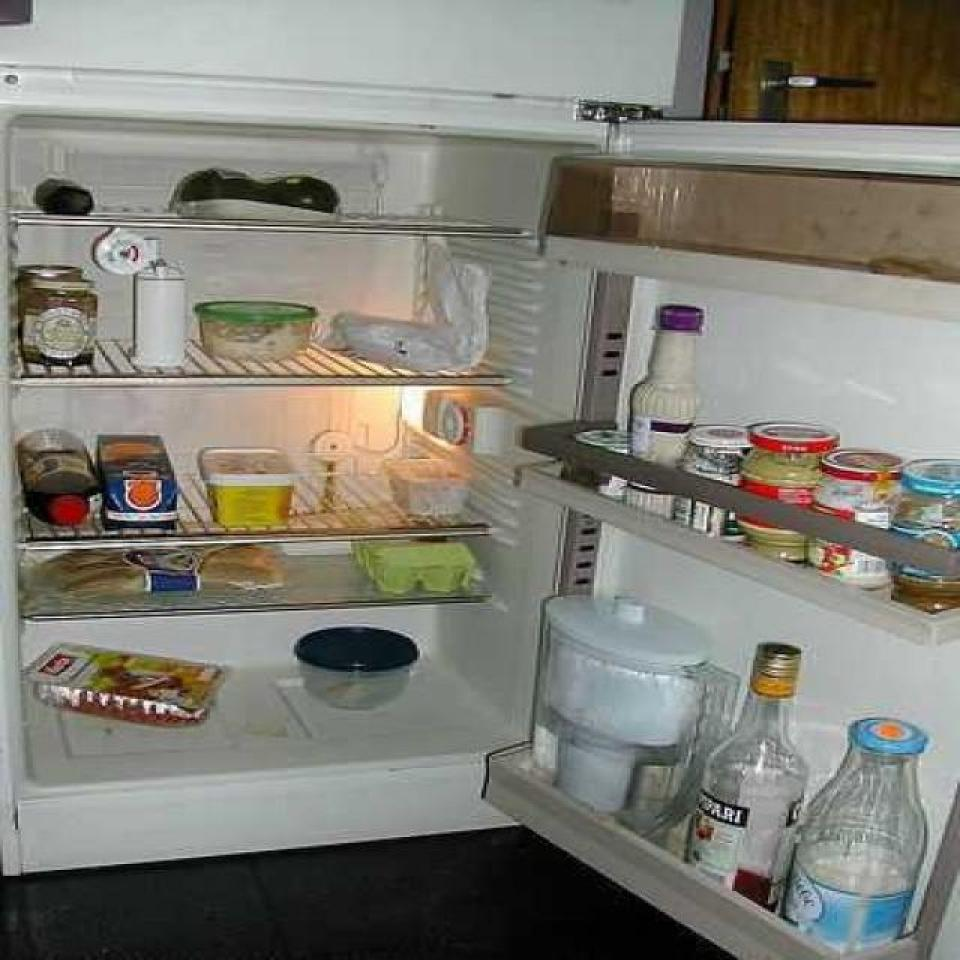Huevos: (346, 534, 488, 598)
